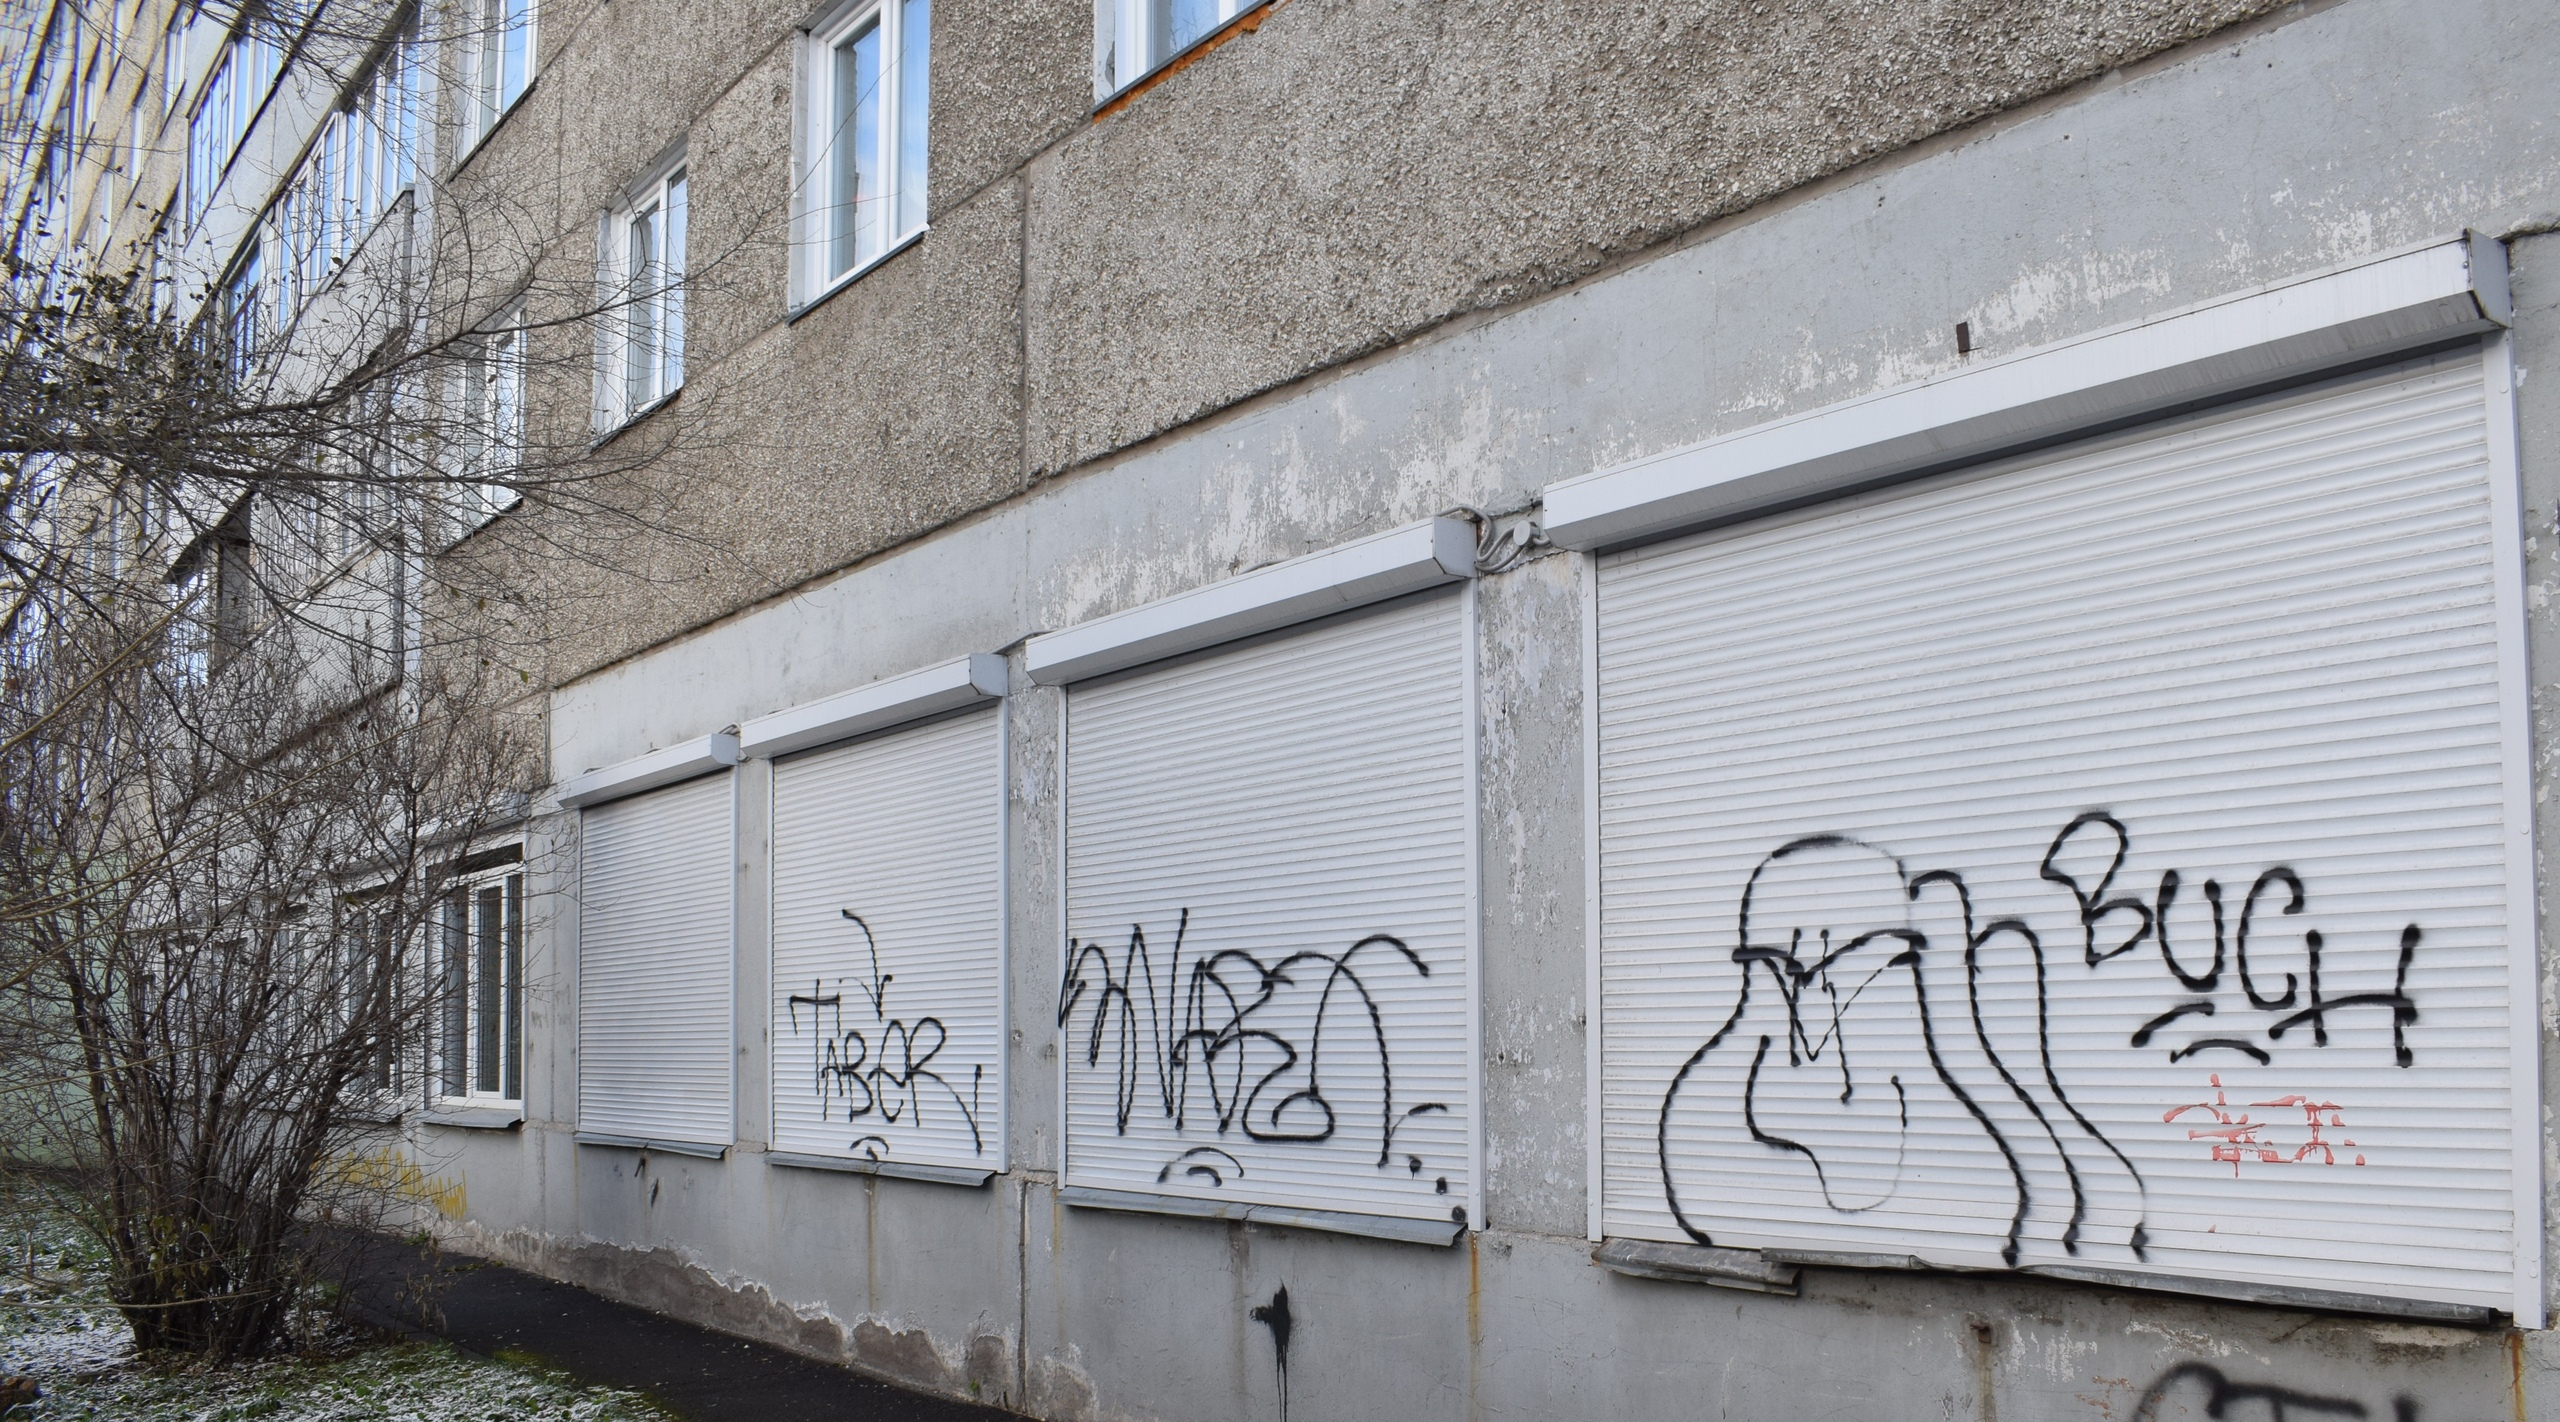graphite: (1639, 825, 2488, 1270), (1054, 897, 1474, 1191), (763, 907, 996, 1159)
